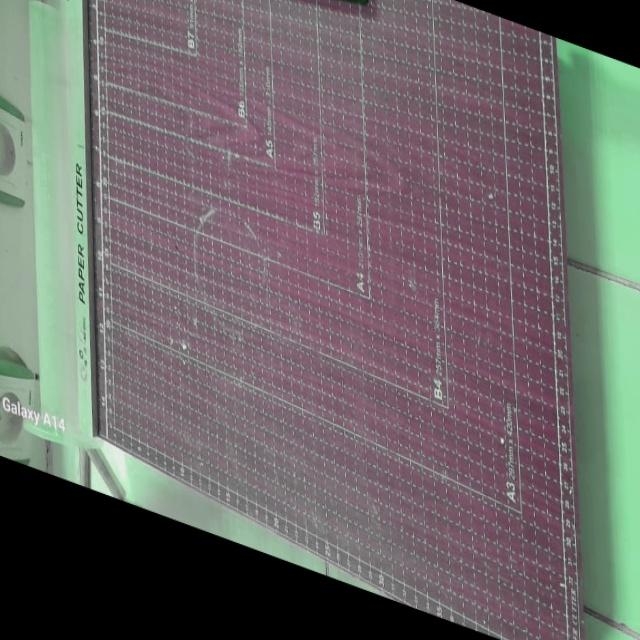TLC Cutter: (19, 0, 637, 640)
